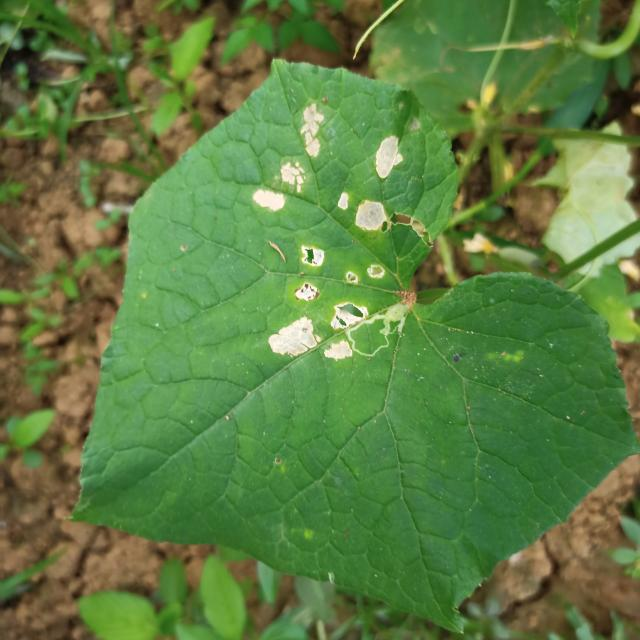disease_cucumber: (265, 243, 365, 362), (254, 103, 322, 214), (338, 136, 402, 232)
